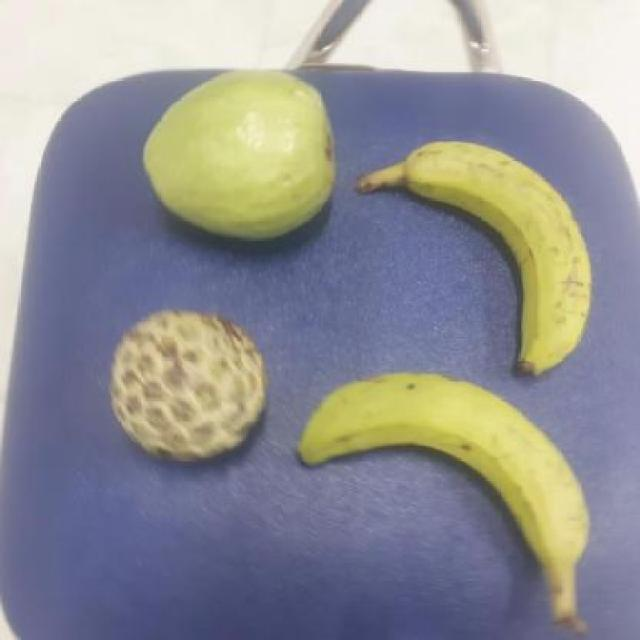banana: (282, 372, 570, 588), (351, 144, 586, 376)
guava: (140, 68, 335, 243)
sugar apple: (103, 310, 266, 462)
